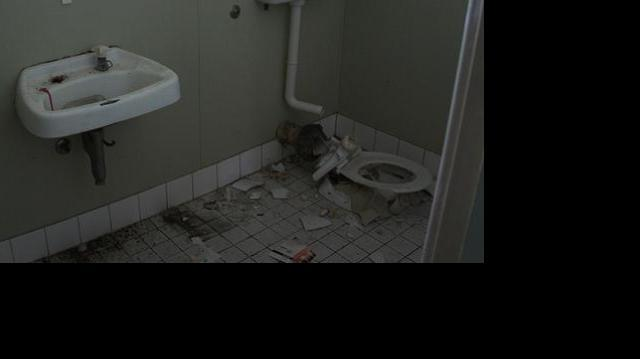Lavamanos: (14, 35, 184, 138)
